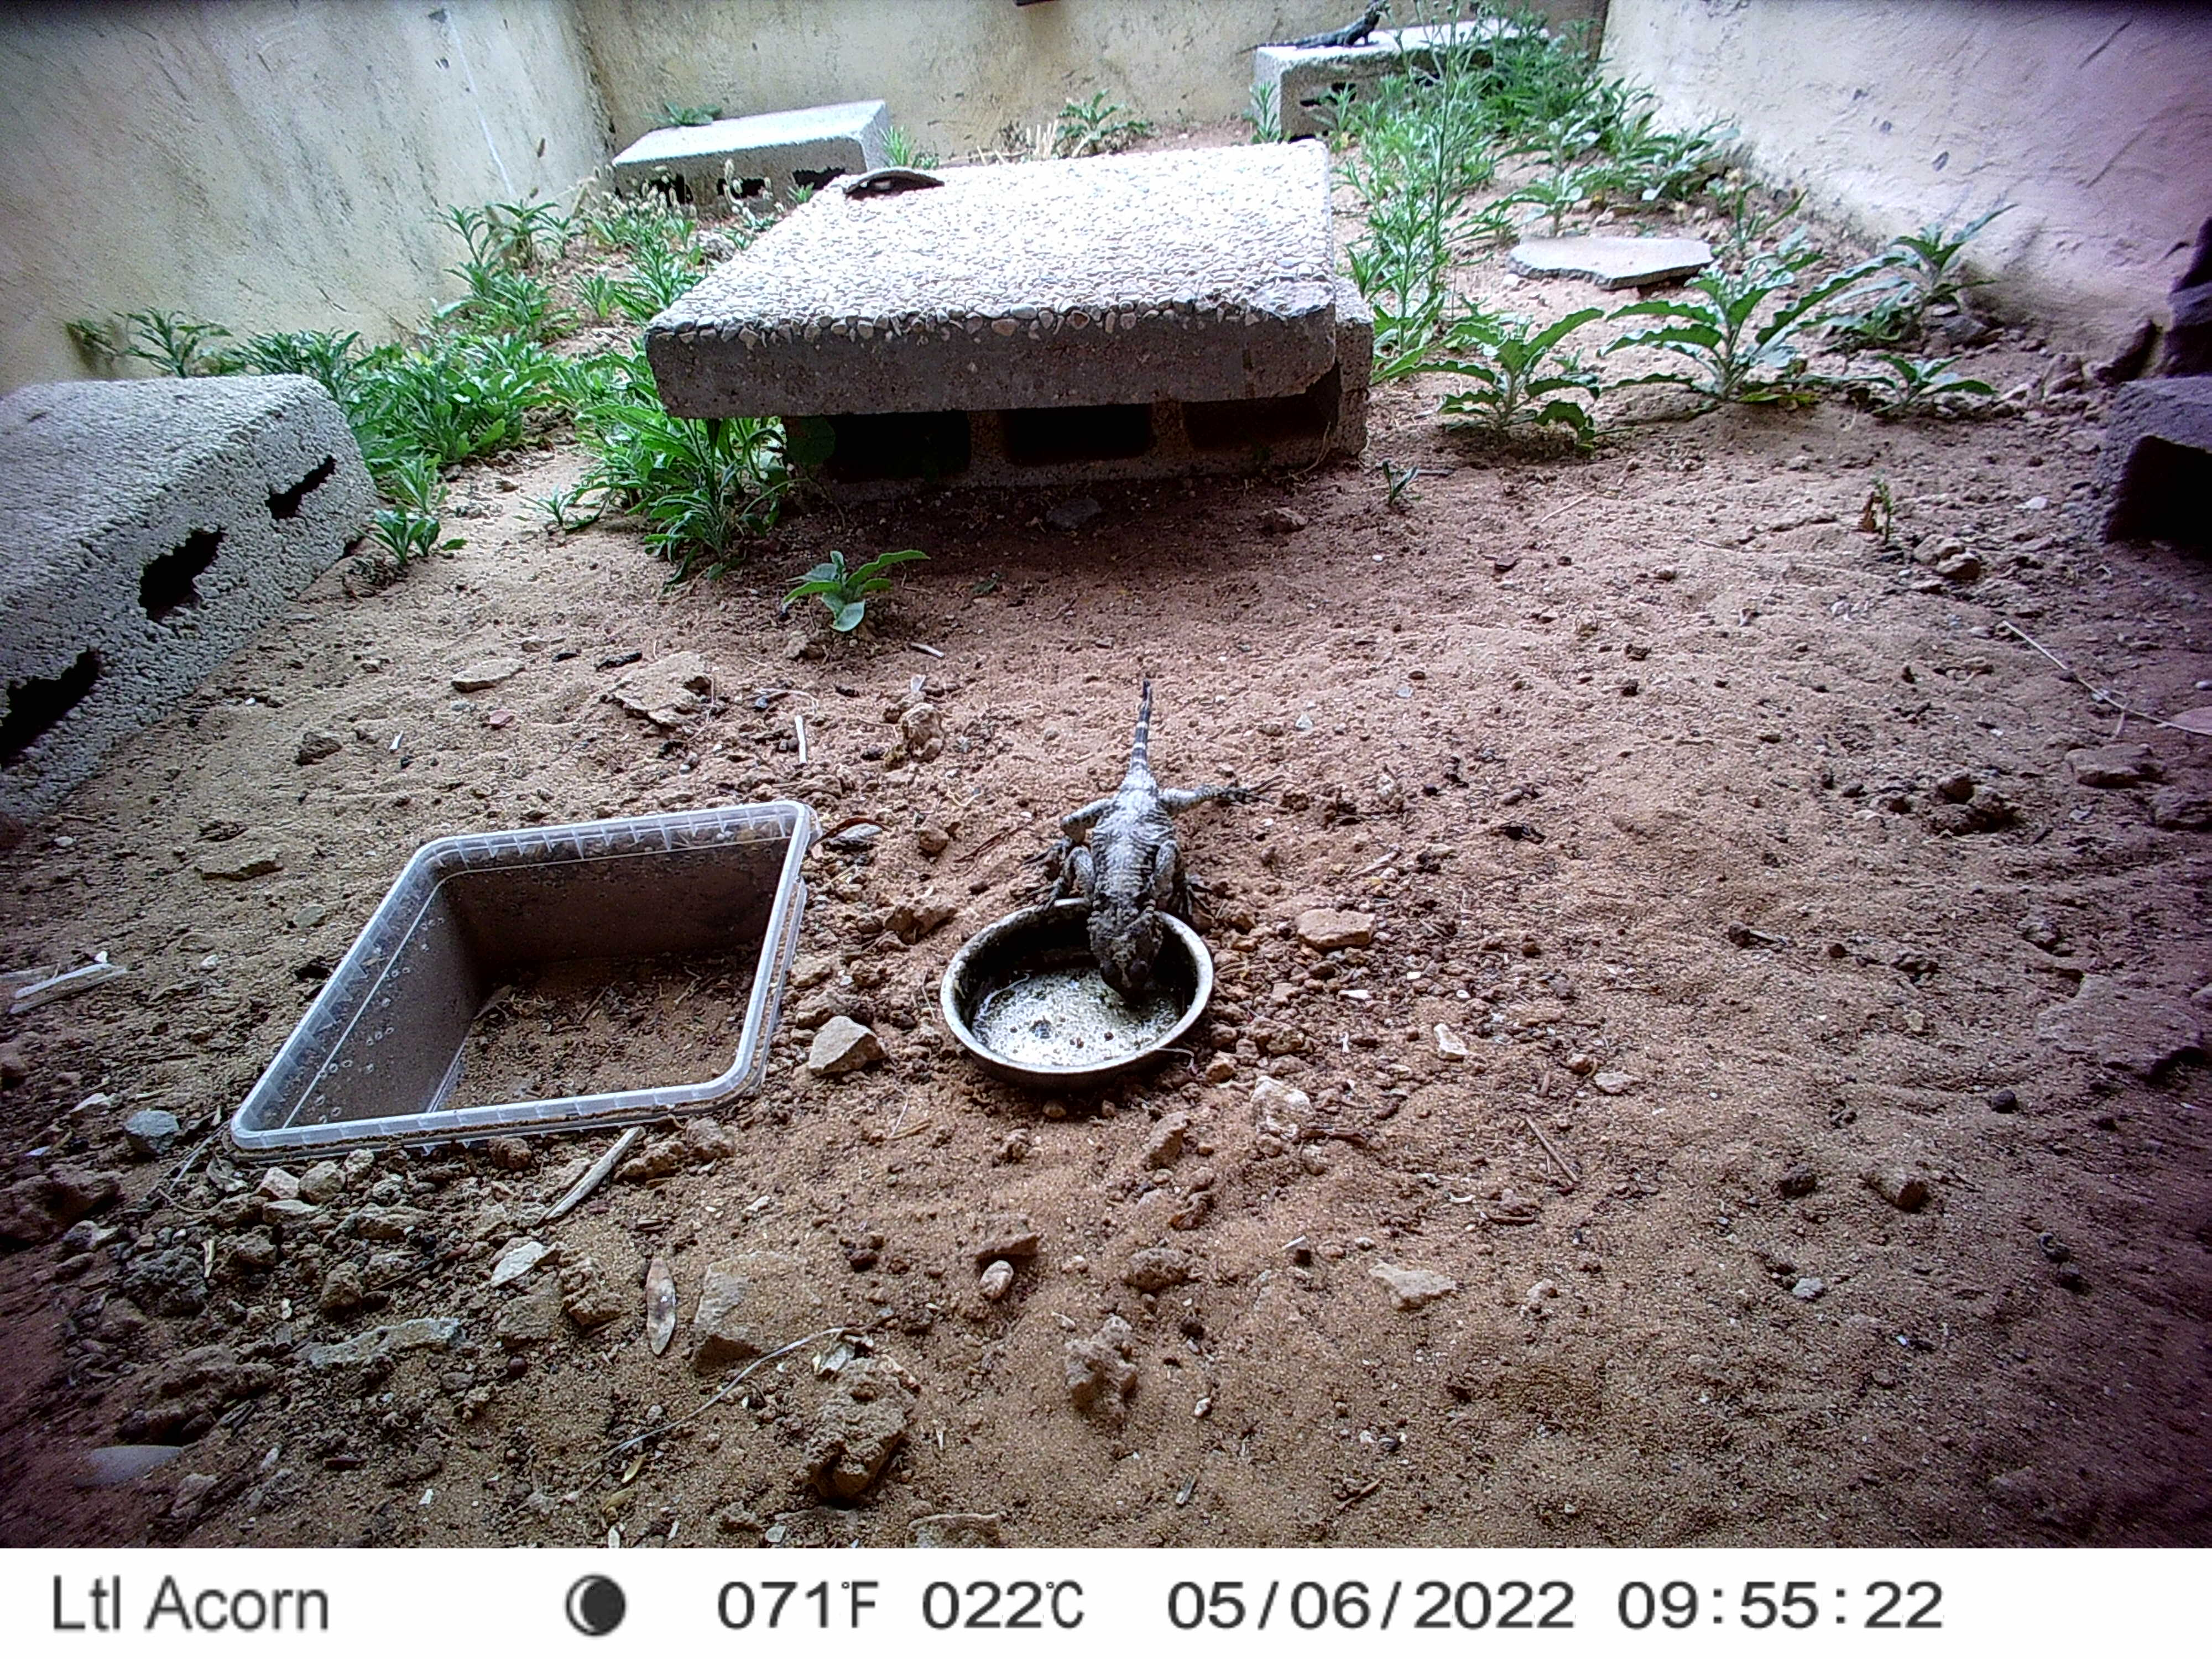lizard: (1010, 674, 1280, 1026), (1221, 0, 1400, 54)
